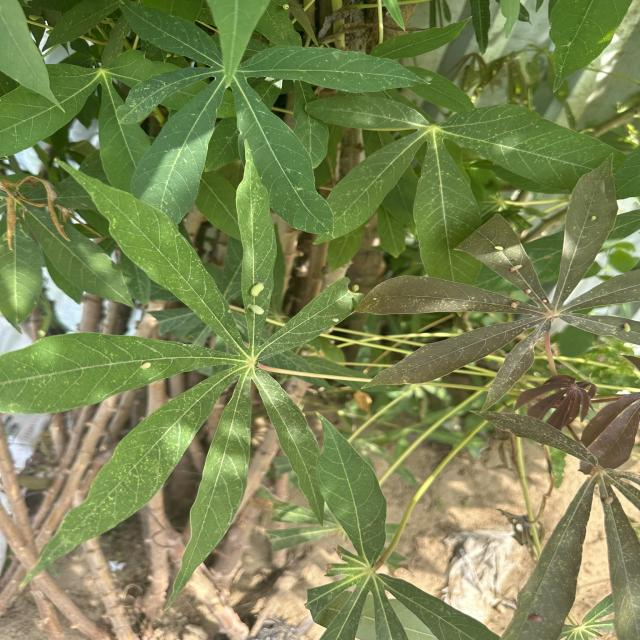Mosca: (240, 272, 276, 320), (132, 352, 156, 378), (619, 313, 635, 339), (507, 296, 526, 315), (278, 1, 300, 17), (489, 238, 506, 257), (585, 208, 601, 228), (505, 262, 524, 276), (329, 312, 342, 328), (539, 295, 549, 313), (520, 284, 532, 298)
